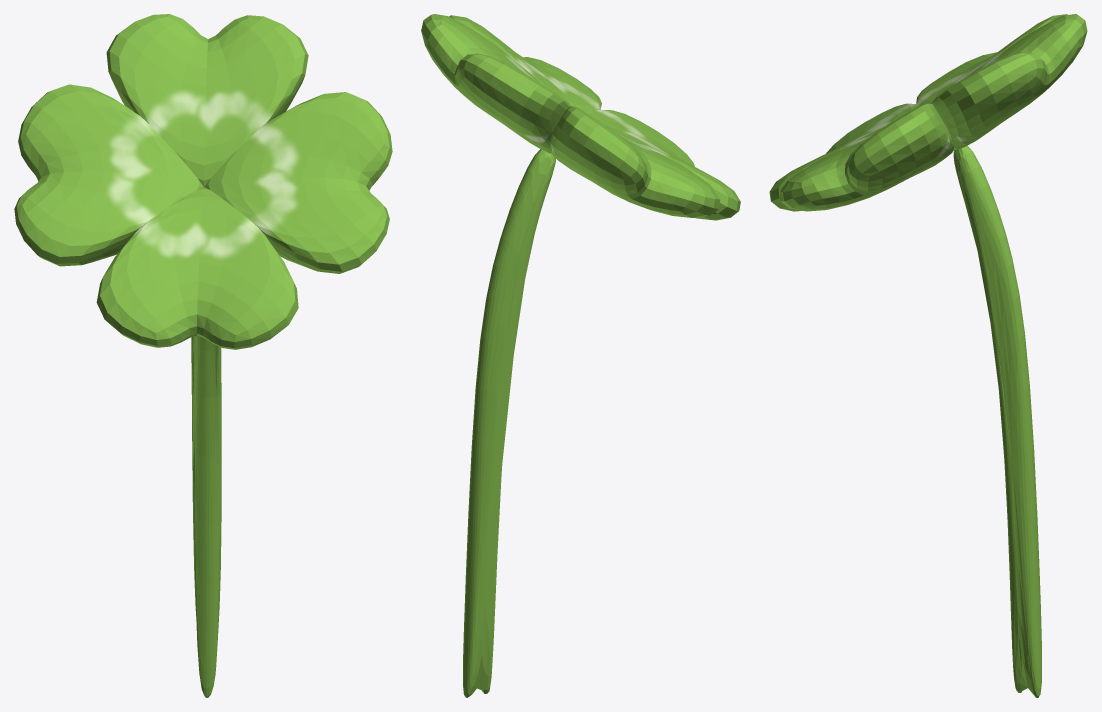
File: Neutral_four_cl.glb
3 renders of one model, left to right at view 1: azimuth 30°, elevation 25°; view 2: azimuth 150°, elevation 25°; view 3: azimuth 270°, elevation 25°, orthographic.
Parts seen in each view (by area): view 1: Cube.002; view 2: Cube.002; view 3: Cube.002.
Part boxes in pixels (<box>): Cube.002: <box>14,14,392,697</box>; Cube.002: <box>421,14,740,697</box>; Cube.002: <box>769,14,1087,697</box>.
Bounding box in the file's own units: 4.34 × 8.82 × 3.85.
2 materials, 1 textured.
